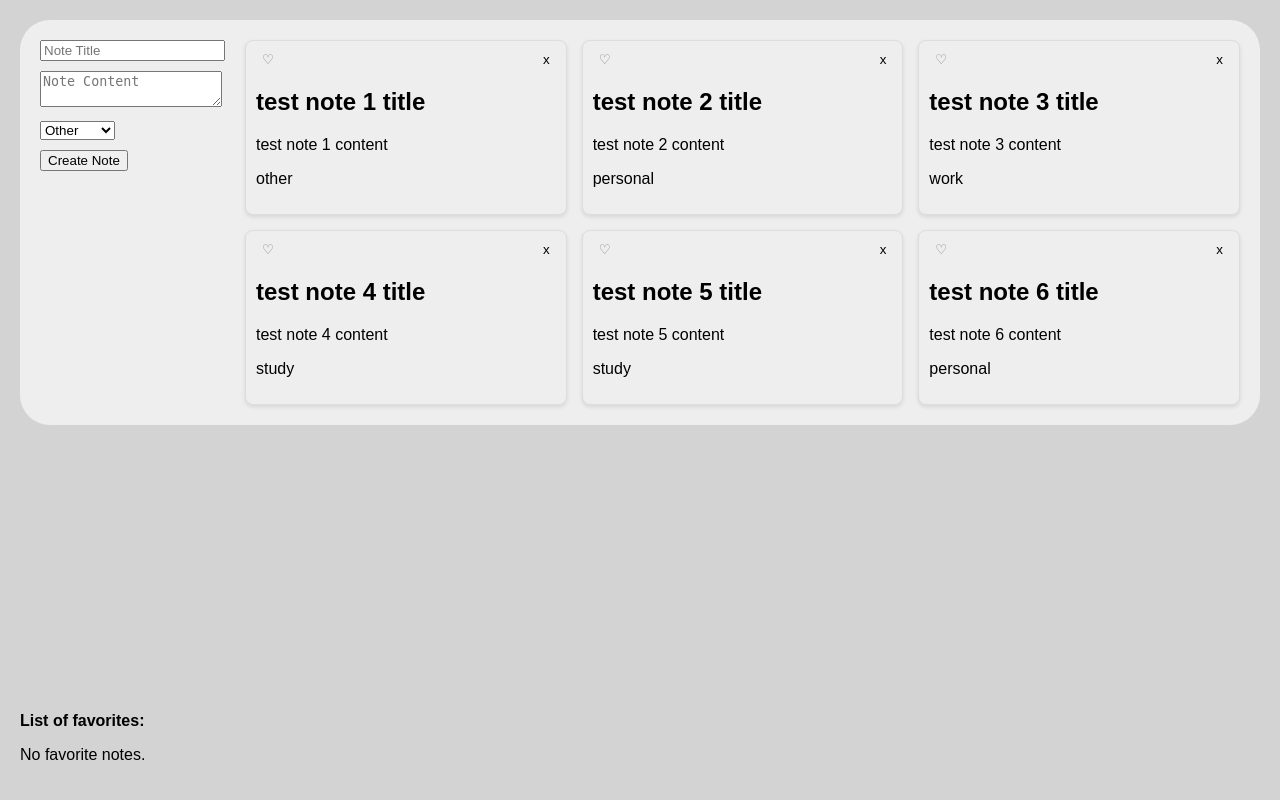
Test: required sticky note › delete, note is filtered out once X is pressed
Click the 1st button "x": point(546, 60) [537,51,556,68]
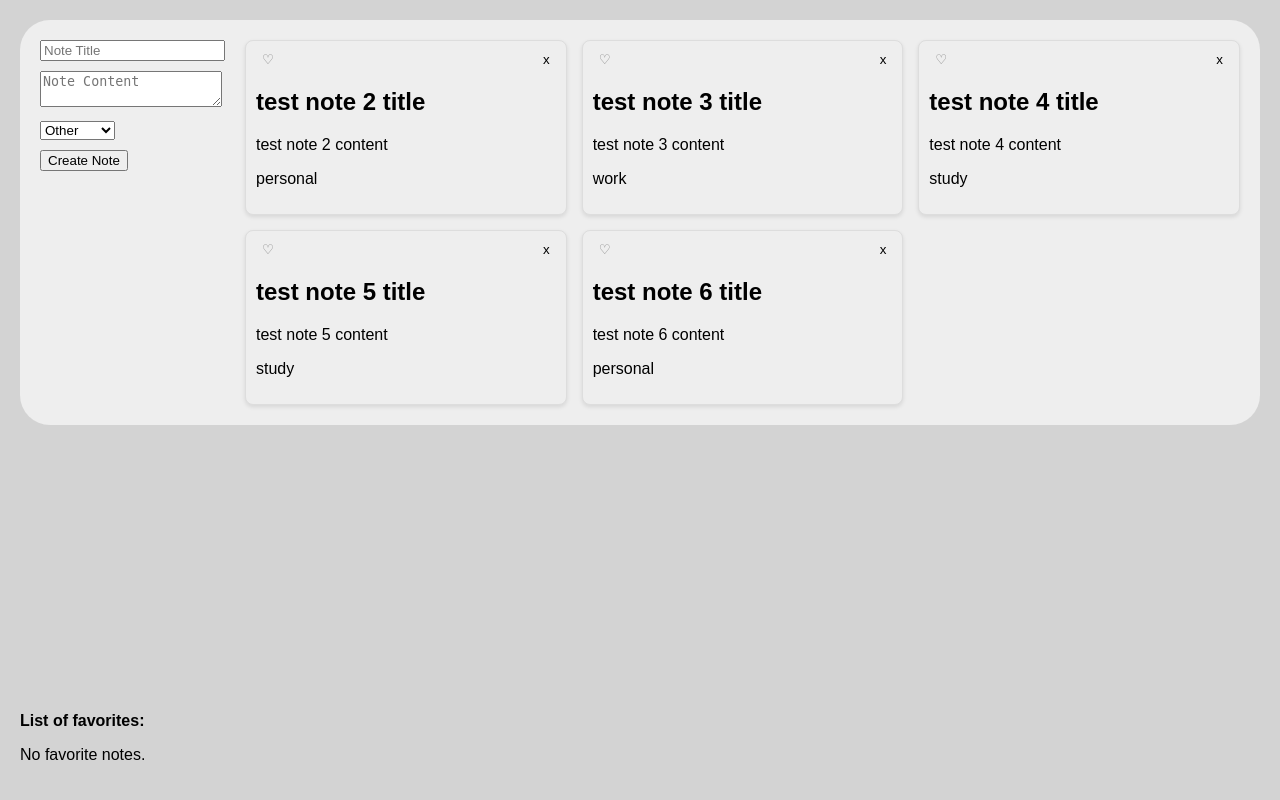
Check: the heading "test note 1 title" is gone
